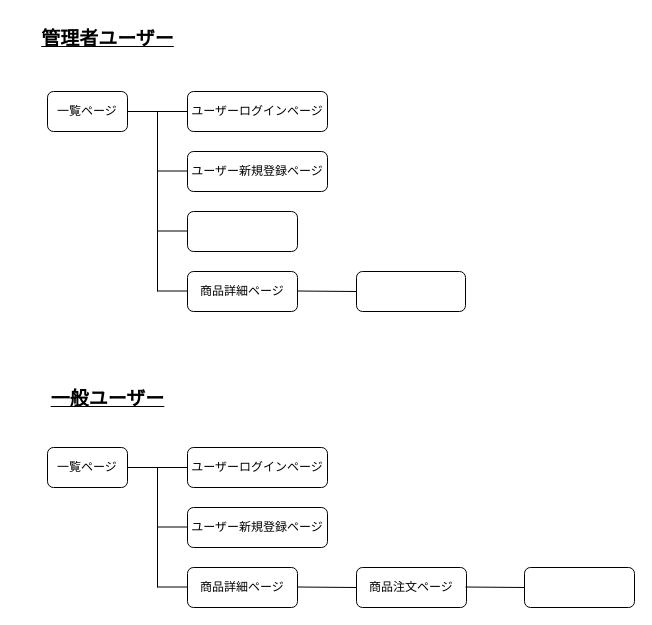
This 652x625 diagram has some shape labels left out. Here are the shapes that lost their labels. From the top down, the centre of each, then its label:
the point at 242,231: 商品出品ページ
the point at 411,291: 商品編集ページ
the point at 579,587: 注文確定ページ
